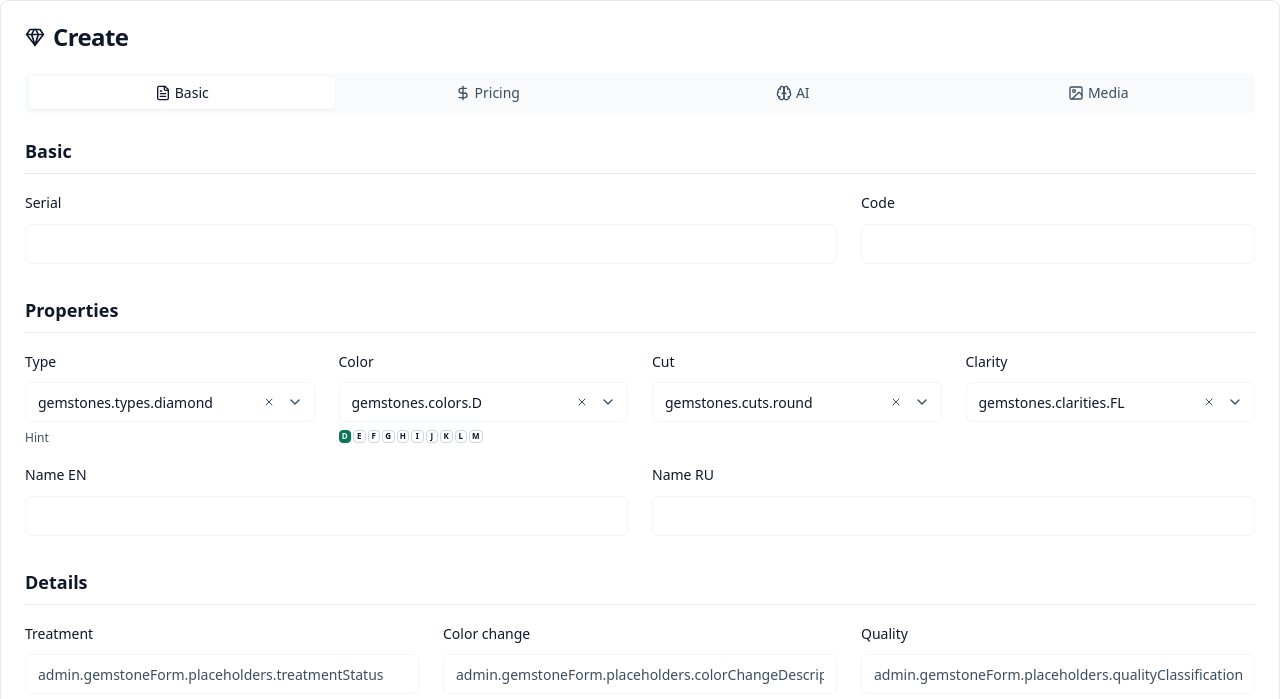
GemstoneForm pricing basis › shows per-piece input when per piece basis is selected
Step 1. Click the button "Pricing" → (487, 93), box x1=334 y1=77 x2=640 y2=109
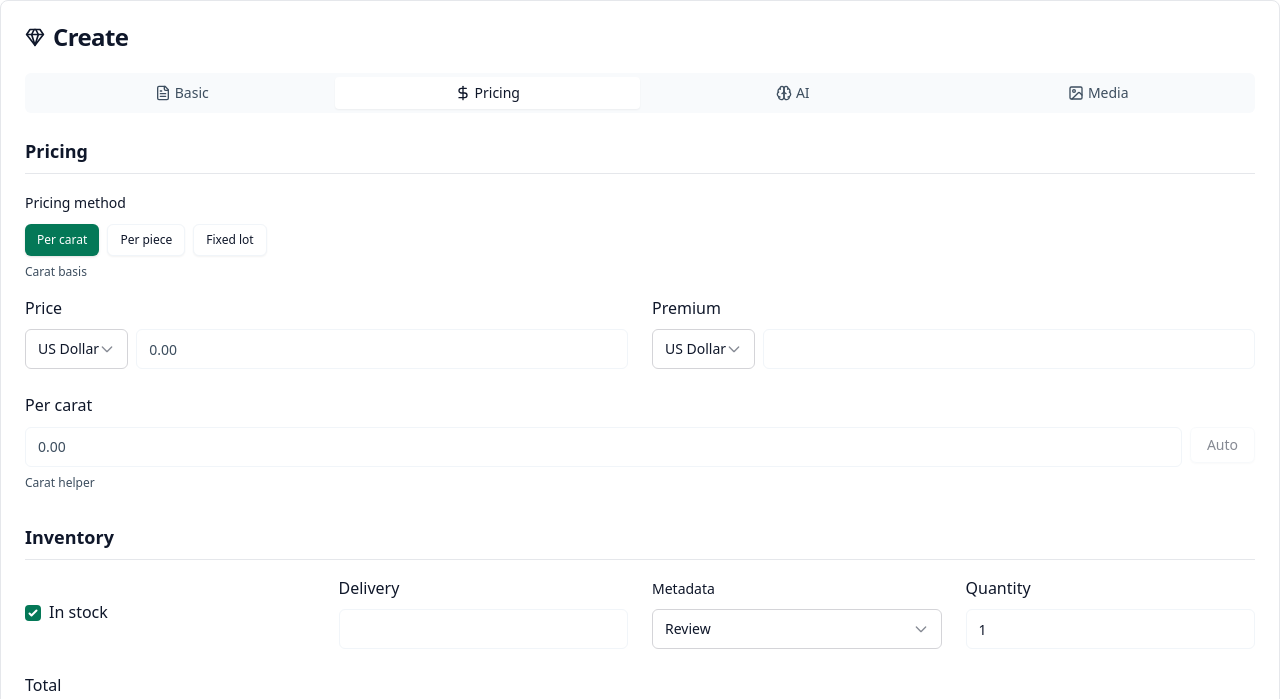
Step 2. Click the button with test id "pricing-basis-per_piece" → (146, 240), box x1=107 y1=224 x2=185 y2=256
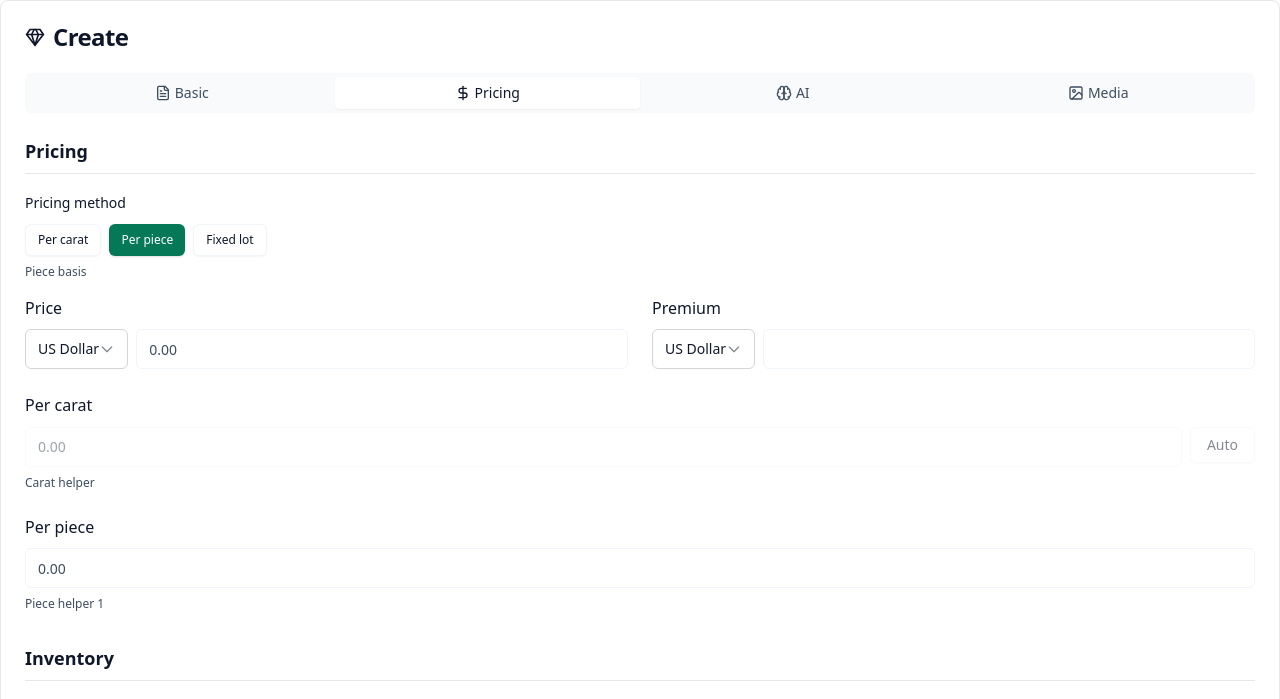
Expected: the number field with test id "price-per-piece-input" is shown, x1=25 y1=548 x2=1255 y2=588
